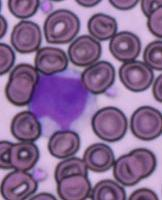M: (28, 69, 96, 131)
